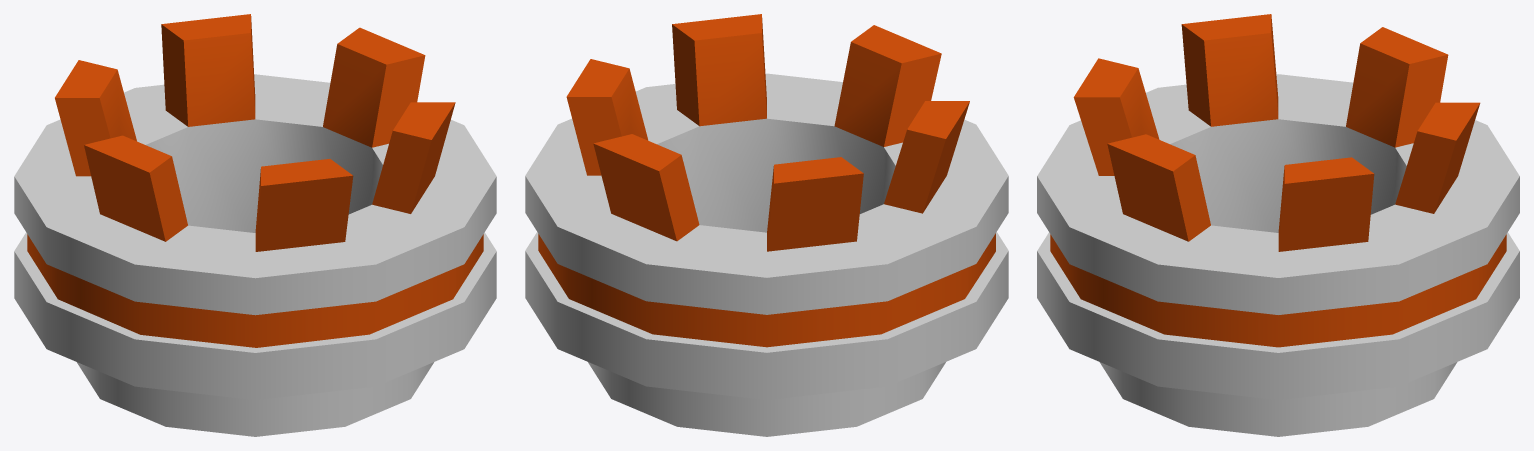
Rendered from TowerTop 1.FBX.
The picture shows the model from 3 angles, left to right: view 1: azimuth 30°, elevation 25°; view 2: azimuth 150°, elevation 25°; view 3: azimuth 270°, elevation 25°; orthographic projection.
Parts seen in each view (by area): view 1: Tube002; view 2: Tube002; view 3: Tube002.
Part boxes in pixels (<box>): Tube002: <box>14,14,496,436</box>; Tube002: <box>525,14,1008,436</box>; Tube002: <box>1037,14,1519,436</box>.
Bounding box in the file's own units: 215 × 129 × 215.
